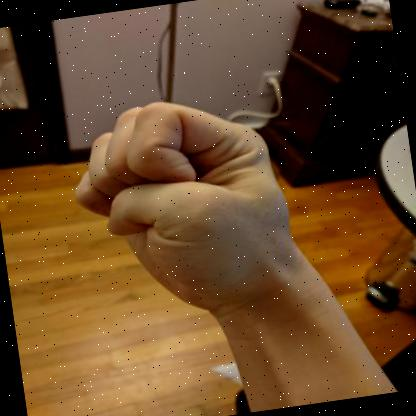E: (75, 101, 308, 315)
